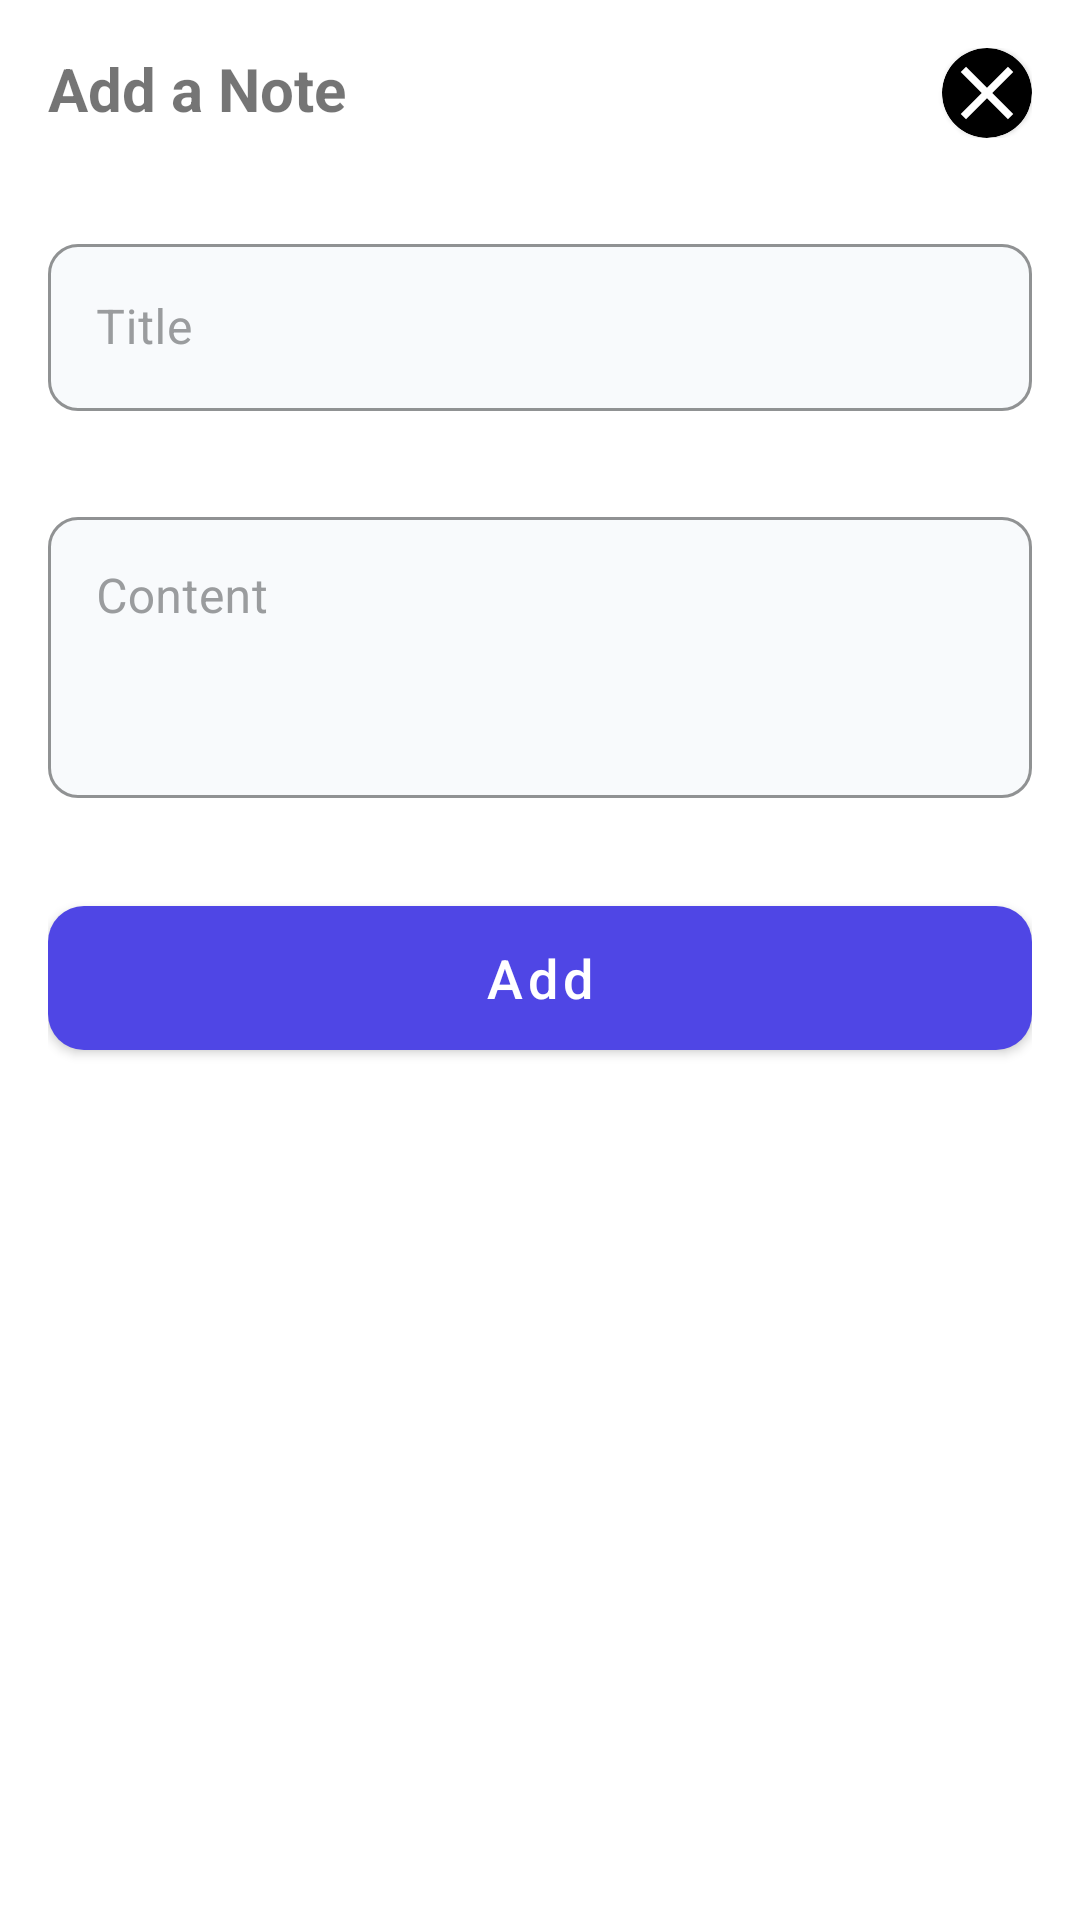

Where to tap for icons on this 1080w x 1920h app screen, as [x,y]:
close: [987,93]
